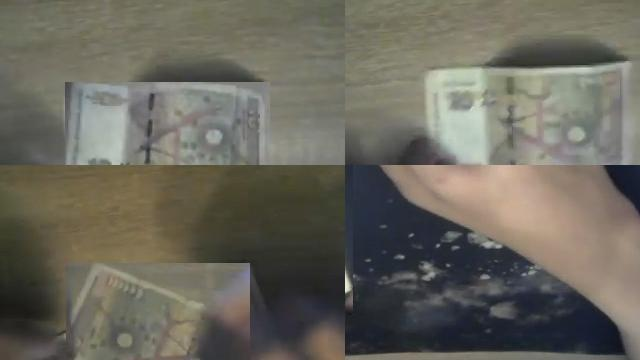10leva: (65, 82, 270, 165), (74, 263, 204, 360)
